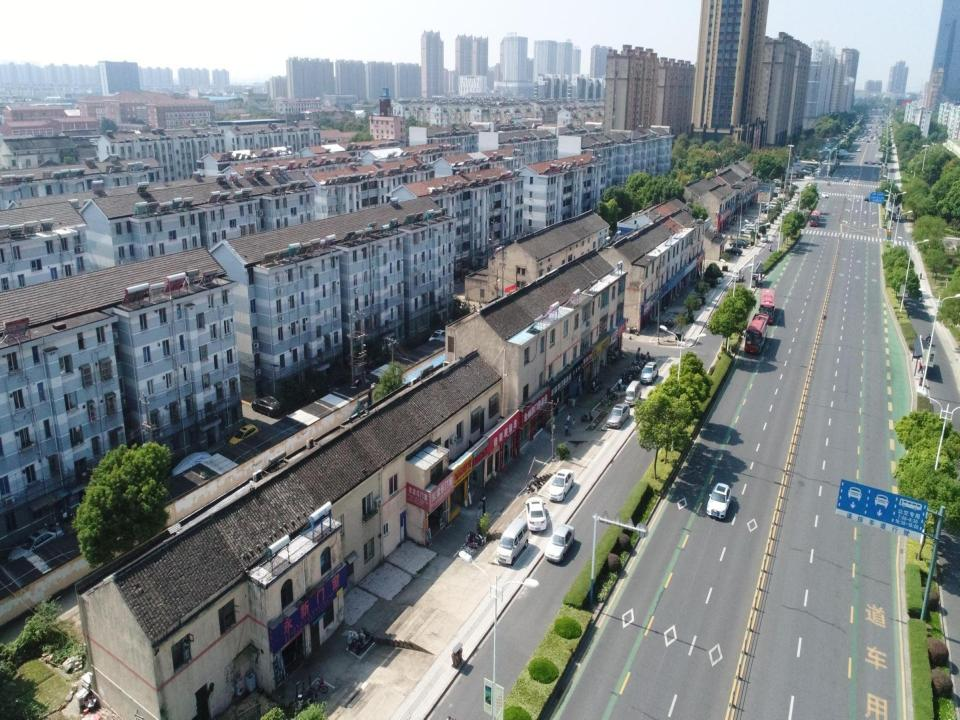bus: (745, 312, 770, 357), (759, 287, 776, 327), (810, 209, 820, 228)
car: (542, 523, 577, 564), (704, 481, 732, 520), (547, 468, 577, 502), (524, 497, 548, 530), (607, 398, 628, 431), (641, 360, 657, 383), (730, 239, 748, 249), (726, 245, 743, 255), (732, 236, 750, 244), (741, 226, 755, 235), (761, 206, 773, 215), (760, 233, 769, 243), (766, 204, 776, 211), (821, 190, 829, 198), (843, 176, 850, 182), (744, 224, 756, 227), (864, 196, 869, 201), (863, 160, 868, 164), (856, 148, 861, 152), (870, 162, 874, 165), (867, 139, 871, 142), (862, 139, 864, 141)
van: (494, 514, 528, 567), (625, 378, 640, 409), (731, 268, 741, 282), (772, 186, 780, 194)
